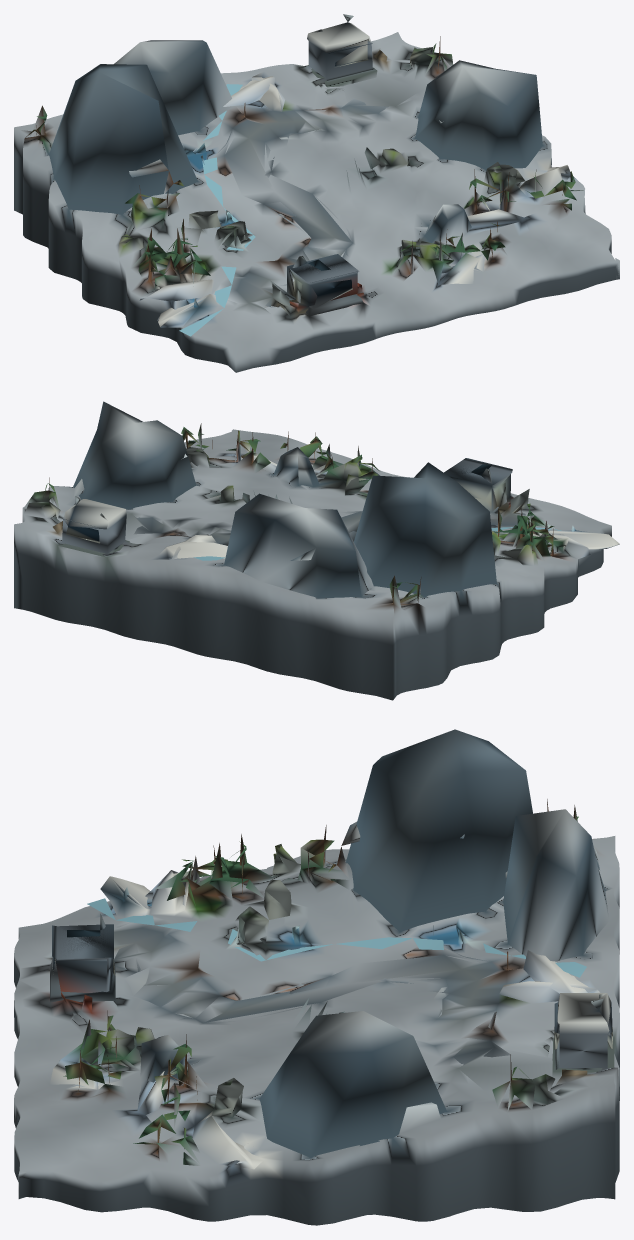
The model's file is hibern.far.glb.
3 renders of one model, top to bottom at view 1: azimuth 30°, elevation 25°; view 2: azimuth 150°, elevation 25°; view 3: azimuth 270°, elevation 25°, orthographic. The views are drawn at different scales.
Visible parts, largest first — view 1: Static terrain and architecture • material batches; view 2: Static terrain and architecture • material batches; view 3: Static terrain and architecture • material batches.
Boxes of the visible parts, bbox=[...] form: Static terrain and architecture • material batches: bbox=[14, 14, 619, 372]; Static terrain and architecture • material batches: bbox=[14, 401, 619, 700]; Static terrain and architecture • material batches: bbox=[14, 729, 619, 1225].
Bounding box in the file's own units: 23.86 × 8.57 × 19.99.
